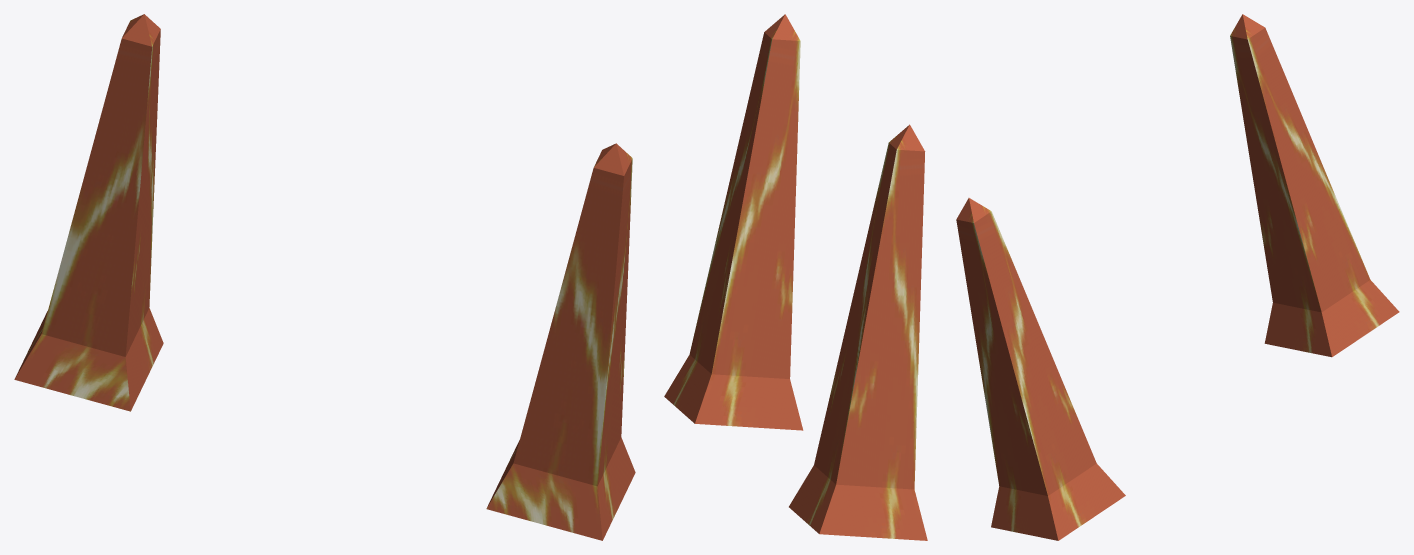
3 views of the same model, side by side, from view 1: azimuth 30°, elevation 25°; view 2: azimuth 150°, elevation 25°; view 3: azimuth 270°, elevation 25° (orthographic). The views are drawn at different scales.
Visible parts, largest first — view 1: Object02; view 2: Object02; view 3: Object02.
Boxes of the visible parts, x1,y1,x2,y2 form: Object02: (14,14,635,540); Object02: (664,14,927,540); Object02: (956,14,1399,540).
Size of the model in its own units: 9.74 by 10.23 by 10.03.
